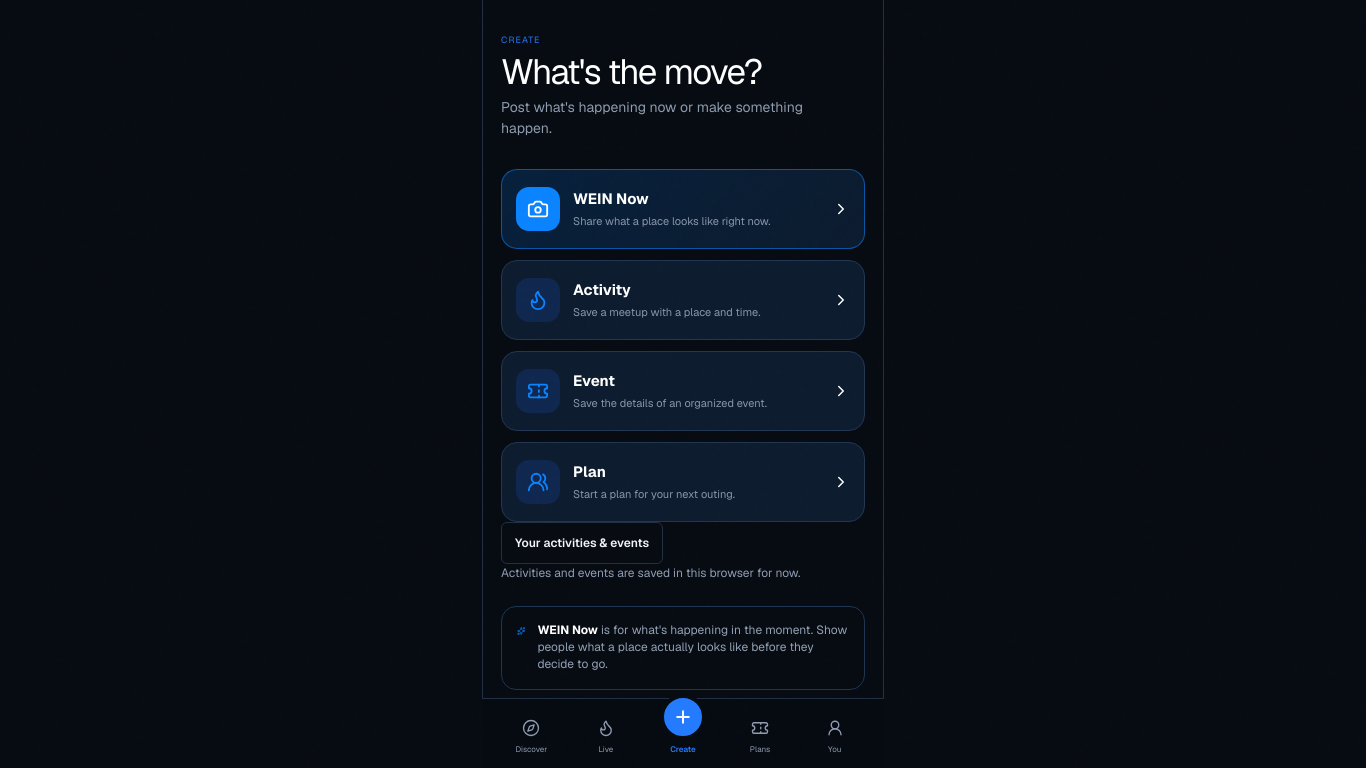
Test: Create menu Activity opens its real form and cancel returns to Create
Click the button "Activity Save a meetup with a place and time." at [538, 300], box top-left (501, 260), bottom-right (865, 340)
(page scrolled)
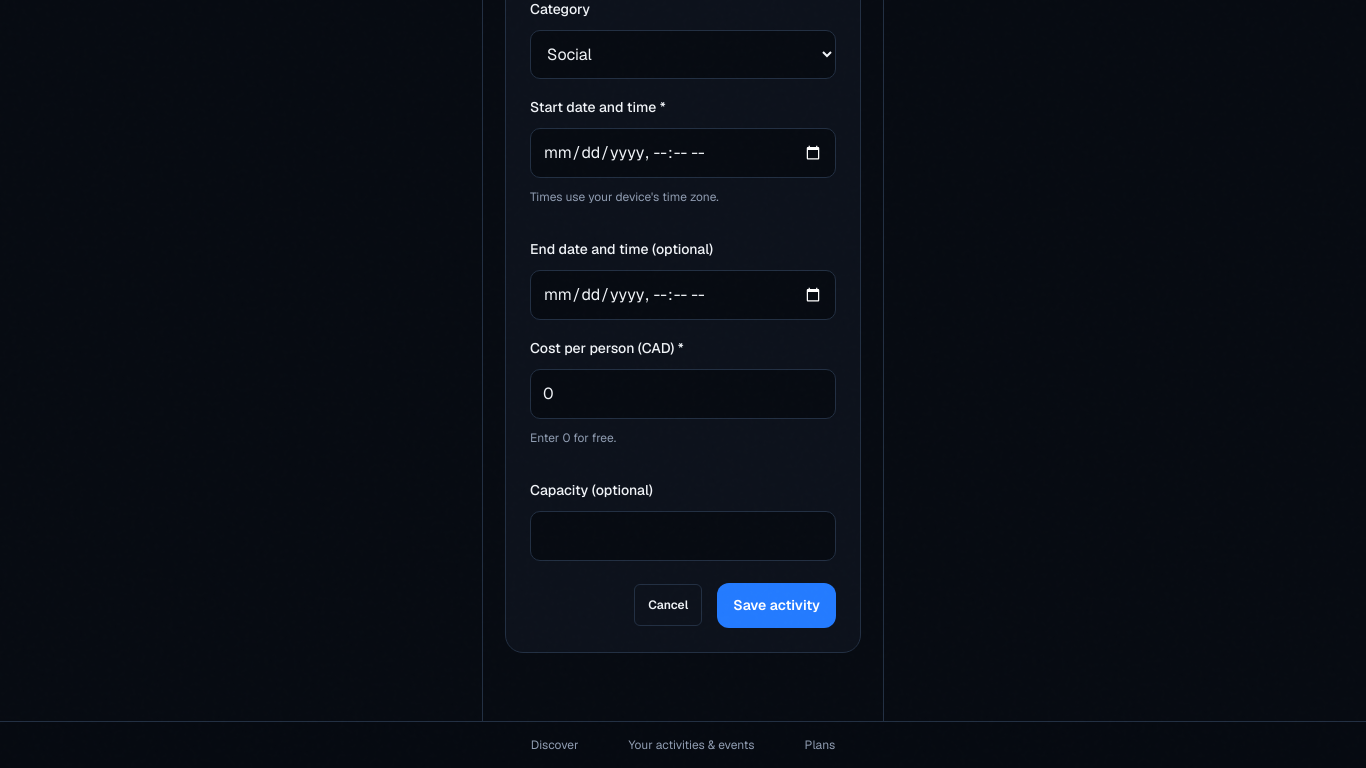
Click the button "Cancel" at [668, 605], box top-left (634, 584), bottom-right (702, 626)
(page scrolled)
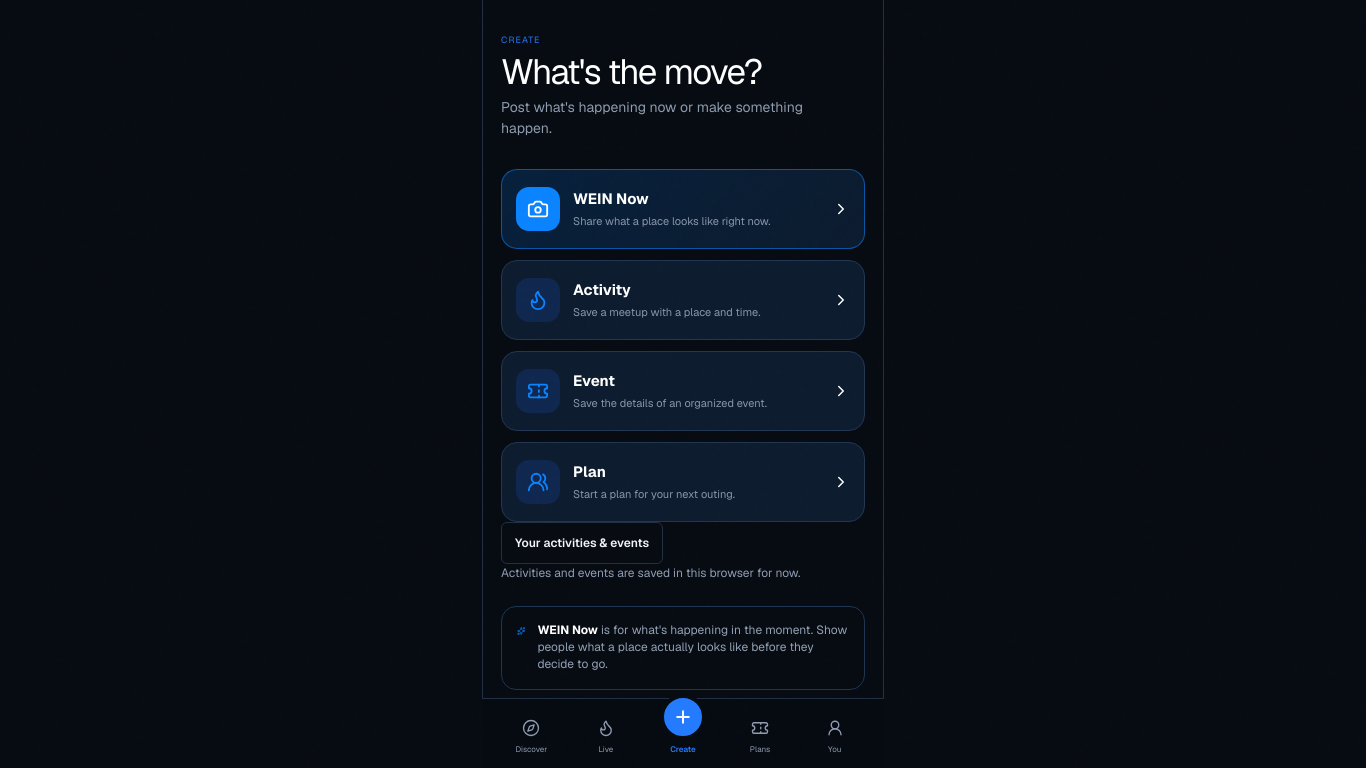
Check: the heading "What's the move?" is shown, box top-left (501, 48), bottom-right (762, 94)
